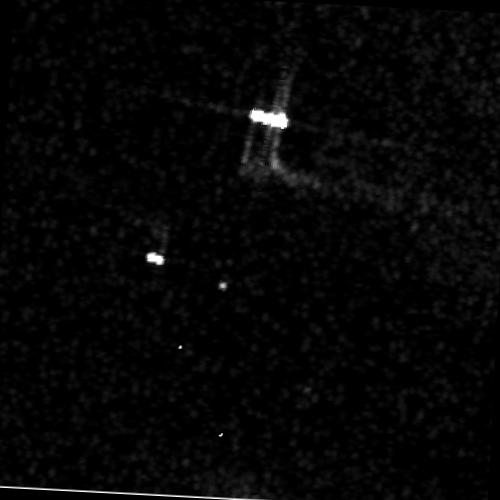ship: (248, 107, 288, 130), (144, 248, 166, 265)
